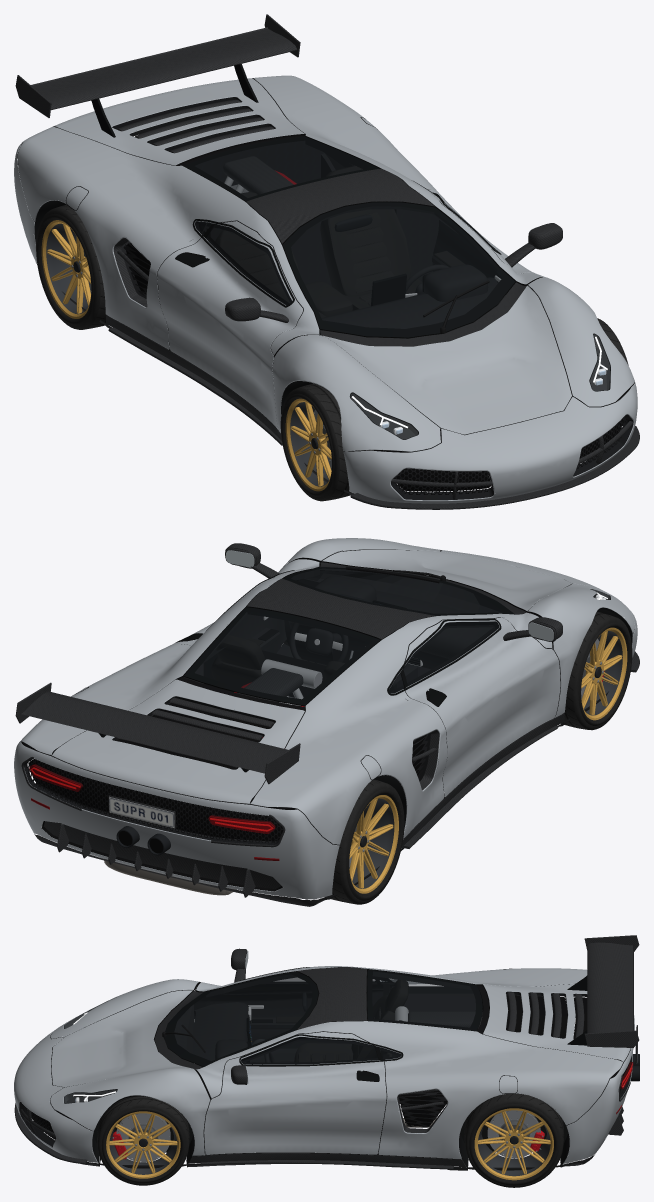
Rendered from wedge-supercar.glb.
3 views of the same model, one above another, from view 1: azimuth 30°, elevation 25°; view 2: azimuth 150°, elevation 25°; view 3: azimuth 270°, elevation 25° (orthographic). The views are drawn at different scales.
Visible parts, largest first — view 1: Body, Wheel_RR, Wheel_FR; view 2: Body, Wheel_RR, Wheel_FR, Steering_Wheel; view 3: Body, Wheel_RL, Wheel_FL.
Boxes of the visible parts, bbox=[...] form: Body: bbox=[14, 14, 639, 509]; Wheel_RR: bbox=[36, 204, 105, 329]; Wheel_FR: bbox=[280, 383, 353, 501]; Body: bbox=[14, 538, 639, 906]; Wheel_RR: bbox=[324, 779, 404, 904]; Wheel_FR: bbox=[561, 611, 632, 730]; Steering_Wheel: bbox=[289, 622, 348, 662]; Body: bbox=[14, 935, 639, 1170]; Wheel_RL: bbox=[464, 1093, 564, 1187]; Wheel_FL: bbox=[97, 1096, 189, 1185].
Size of the model in its own units: 2.15 by 1.16 by 4.46.
59 materials, 12 textured.
